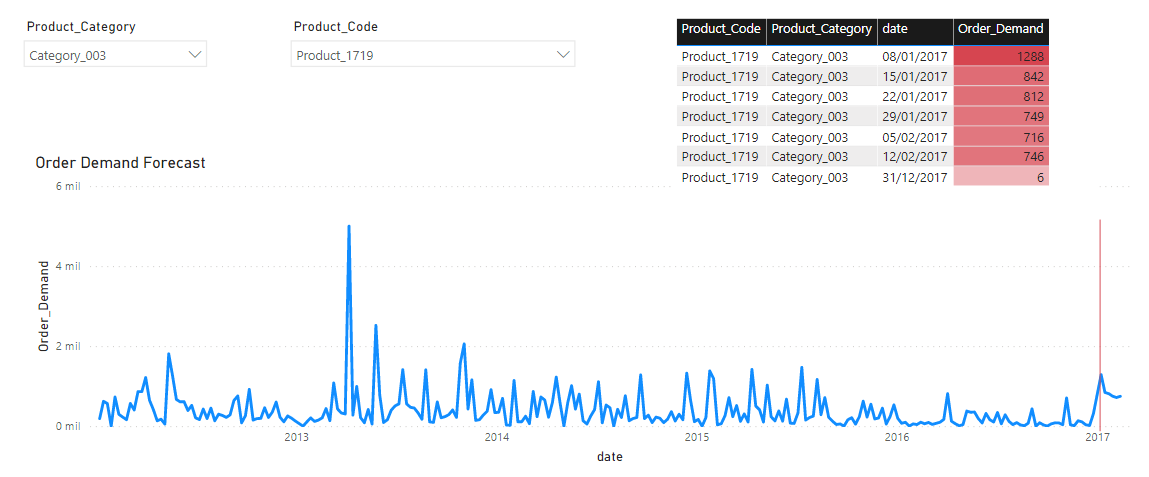

What the dashboard file says about the page in this screenshot:
{"tool":"powerbi","page":{"name":"Order demand","canvas":[1280,720],"ordinal":0},"visuals":[{"type":"lineChart","title":"Order Demand Forecast","fields":{"Y":["Sum(total_df.Order_Demand)"],"Category":["total_df.date"]},"box":[67.5,266.7,1157.6,329.4],"z":0},{"type":"slicer","fields":{"Values":["data.Product_Category"]},"box":[50.2,120.8,211.8,78],"z":1000},{"type":"slicer","fields":{"Values":["data.Product_Code"]},"box":[328.8,120.8,317.7,65],"z":2000},{"type":"basicShape","box":[1157.6,326.3,56.5,241.6],"z":2001},{"type":"tableEx","fields":{"Values":["data.Product_Code","data.Product_Category","total_df.date","Sum(total_df.Order_Demand)"]},"box":[737.5,120.8,447.7,198.8],"z":2002},{"type":"textbox","box":[0,0,1280,76.2],"z":2004}]}

Visuals, with their boxes on the page's 1280x720 design canvas (x1, y1, x2, y2). These are canvas units, not pixel positions in the 1149x477 screenshot, which may show the page scaled, cropped or inside an application window:
"Order Demand Forecast" lineChart: [x1=68, y1=267, x2=1225, y2=596]
slicer - data.Product_Category: [x1=50, y1=121, x2=262, y2=199]
slicer - data.Product_Code: [x1=329, y1=121, x2=646, y2=186]
basicShape: [x1=1158, y1=326, x2=1214, y2=568]
tableEx - data.Product_Code x data.Product_Category: [x1=738, y1=121, x2=1185, y2=320]
textbox: [x1=0, y1=0, x2=1280, y2=76]
